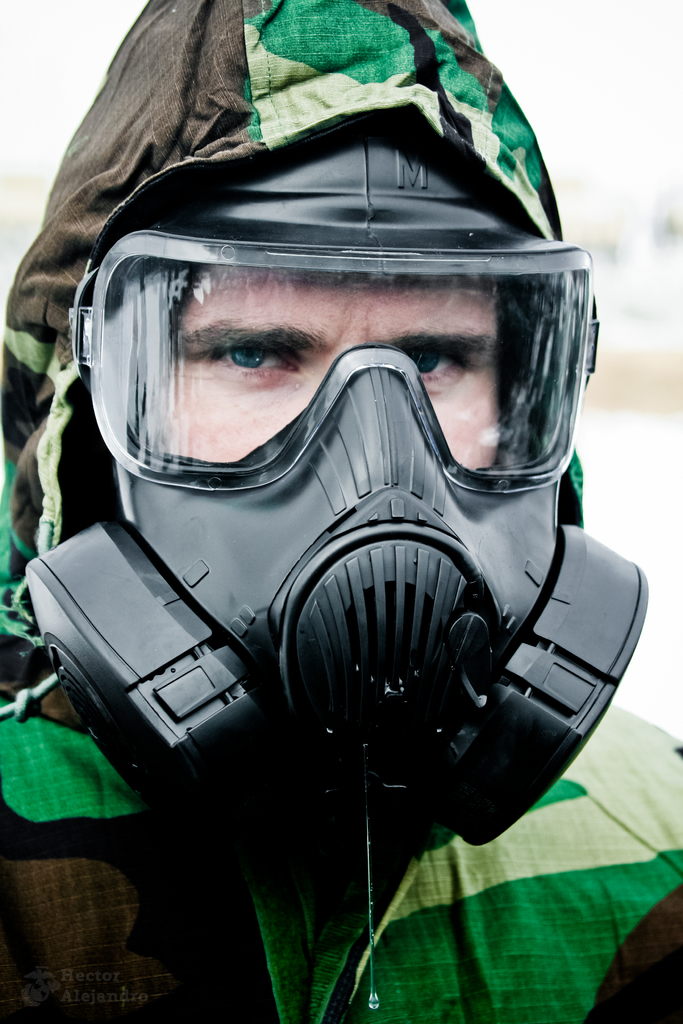Person: (0, 0, 682, 1023)
